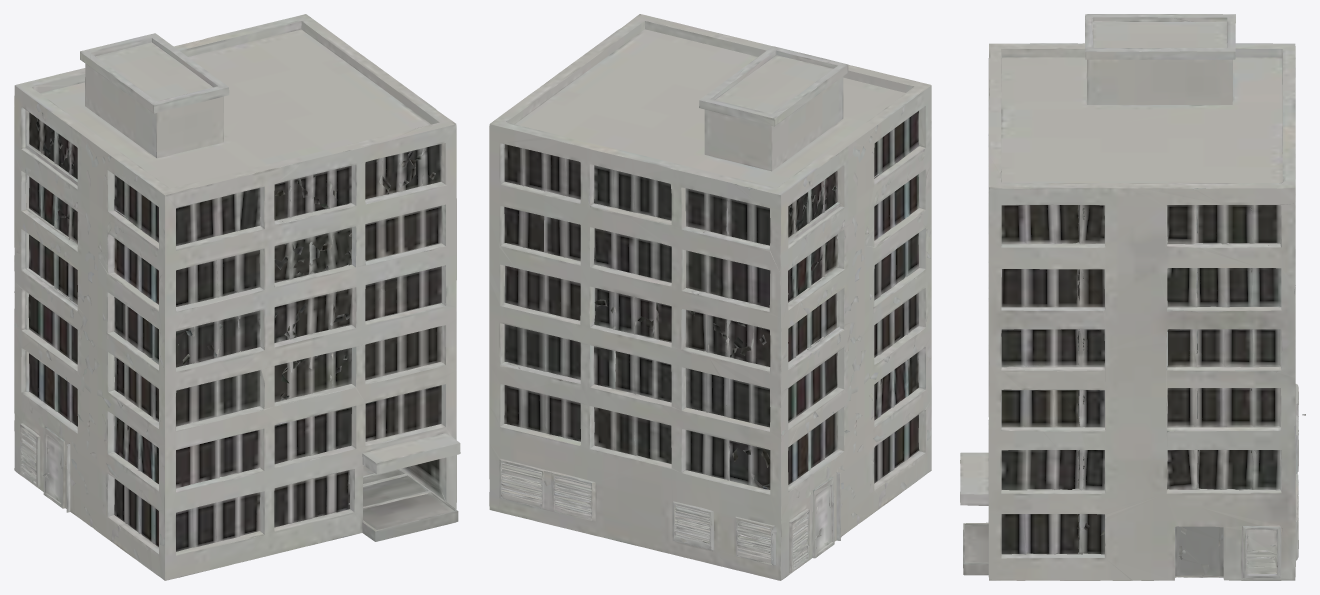
File: block-concrete.glb
The picture shows the model from 3 angles, left to right: view 1: azimuth 30°, elevation 25°; view 2: azimuth 150°, elevation 25°; view 3: azimuth 270°, elevation 25°; orthographic projection.
Parts seen in each view (by area): view 1: geometry_0; view 2: geometry_0; view 3: geometry_0.
Part boxes in pixels (x1,y1,x2,y2): geometry_0: [14, 14, 460, 580]; geometry_0: [489, 14, 931, 580]; geometry_0: [960, 14, 1305, 580].
Bounding box in the file's own units: 0.7295 × 1 × 0.7135.
1 material, 1 textured.
